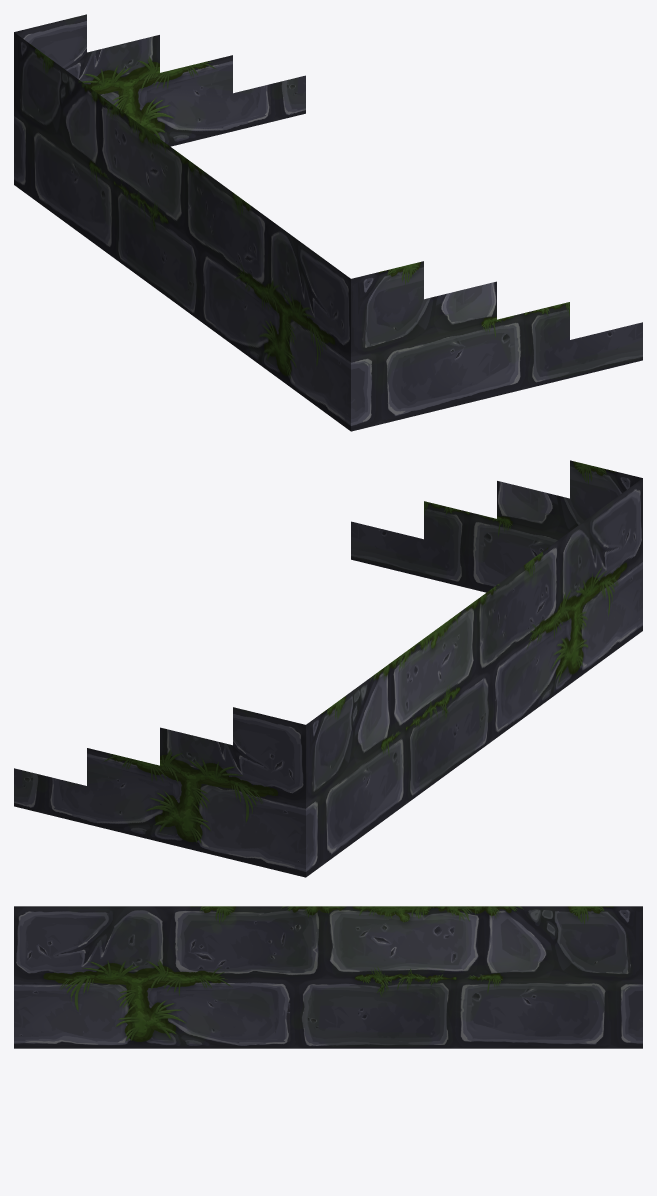
The model's file is MOD_Stairs_01_WallCover_4.fbx.
The picture shows the model from 3 angles, top to bottom: view 1: azimuth 30°, elevation 25°; view 2: azimuth 150°, elevation 25°; view 3: azimuth 270°, elevation 25°; orthographic projection. The views are drawn at different scales.
Visible parts, largest first — view 1: MOD_Stairs_01_WallCover_4; view 2: MOD_Stairs_01_WallCover_4; view 3: MOD_Stairs_01_WallCover_4.
Boxes of the visible parts, bbox=[...] form: MOD_Stairs_01_WallCover_4: bbox=[14, 14, 642, 431]; MOD_Stairs_01_WallCover_4: bbox=[14, 460, 642, 877]; MOD_Stairs_01_WallCover_4: bbox=[14, 906, 642, 1048].
Size of what is drawn, in the model's own units: 200 by 100 by 400.
